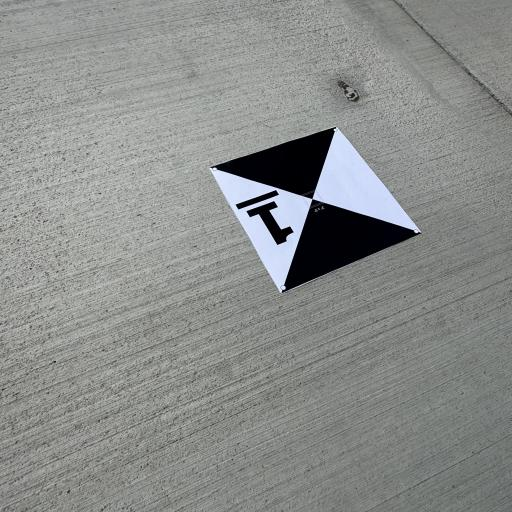target1: (204, 120, 428, 303)
